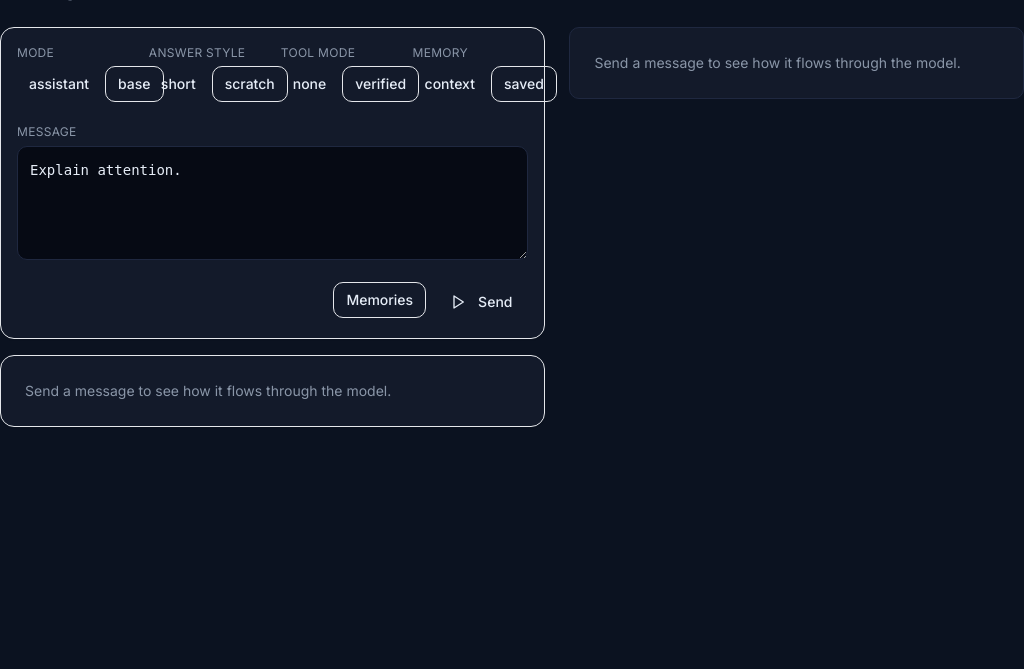
Scenario: ChatPlayground memory drawer › opens the drawer when Memories is clicked and lists current memories
Click the button "Memories": {"x": 380, "y": 300} x1=333 y1=282 x2=426 y2=318
(page scrolled)
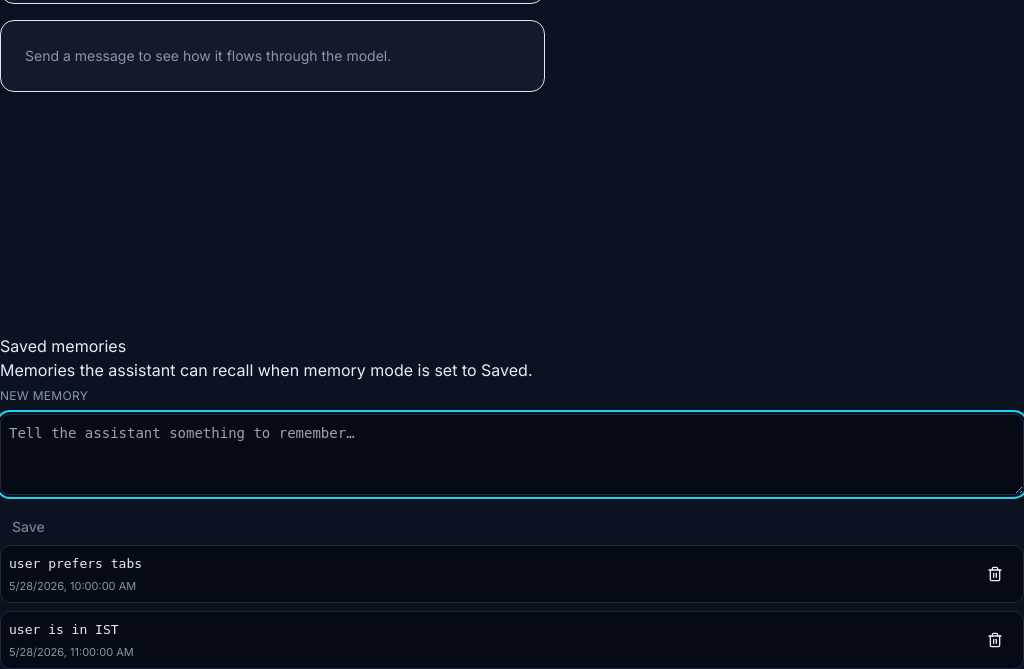
expect the text "user prefers tabs" is shown: met, box x1=9 y1=554 x2=142 y2=574
expect the text "user is in IST" is shown: met, box x1=9 y1=620 x2=134 y2=640
